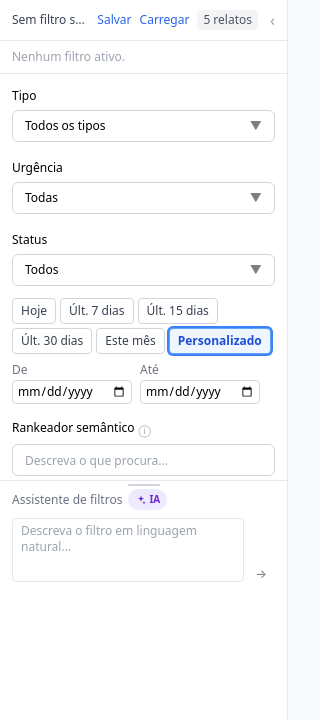
it: FilterPanel › Save popover appears on "Salvar" click
Click the button "Salvar": (114, 20) [97, 12, 132, 28]
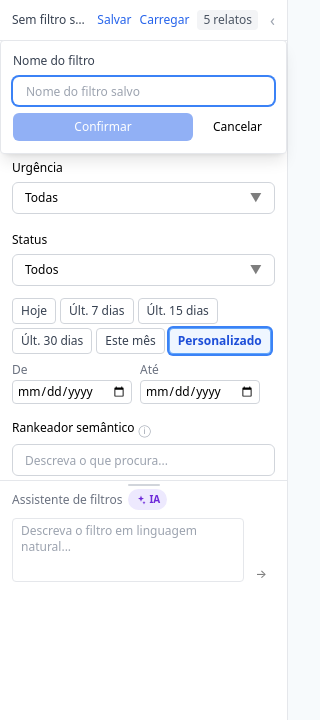
Expected: the field with placeholder "Nome do filtro salvo" is shown, [13, 77, 274, 105]
